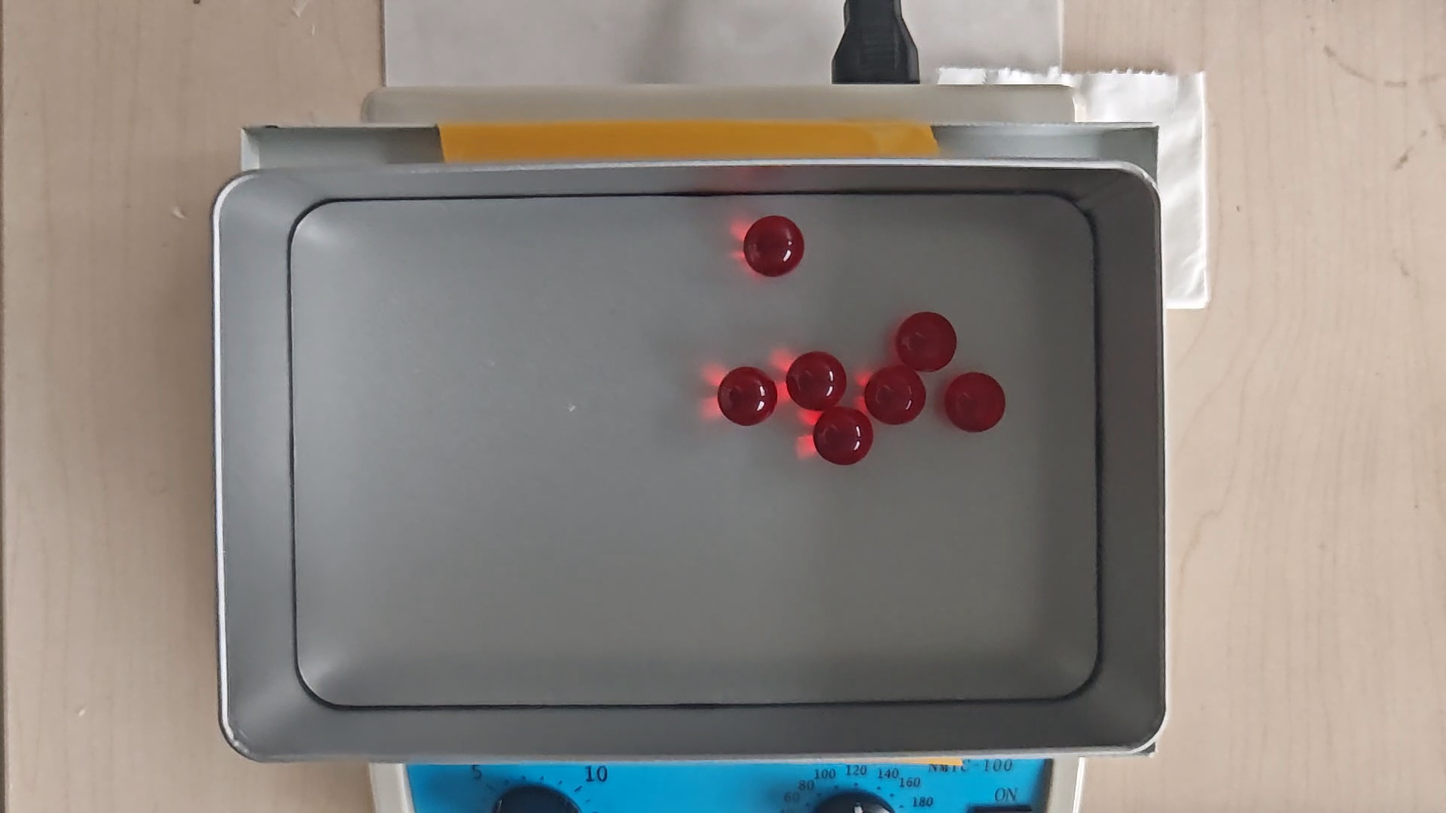ball: (945, 372, 1007, 434), (719, 367, 779, 428), (745, 215, 803, 277), (867, 366, 927, 425), (897, 311, 954, 373), (814, 406, 871, 467), (789, 351, 844, 410)
container: (287, 193, 1098, 708)
